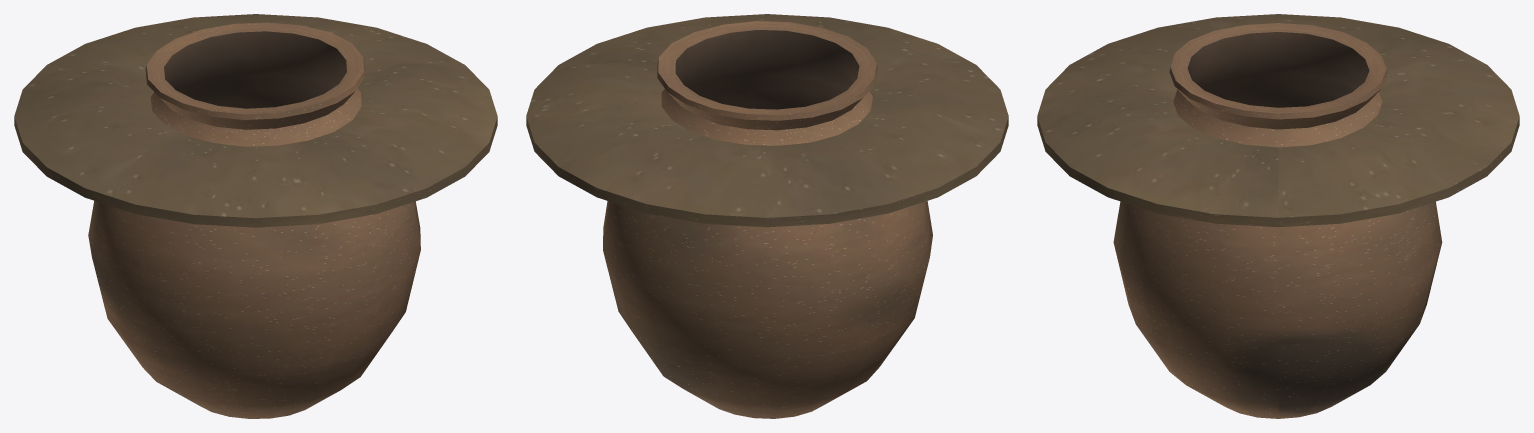
Rendered from store_jar_sunken.glb.
The picture shows the model from 3 angles, left to right: view 1: azimuth 30°, elevation 25°; view 2: azimuth 150°, elevation 25°; view 3: azimuth 270°, elevation 25°; orthographic projection.
Parts seen in each view (by area): view 1: STORE_JAR_SUNKEN; view 2: STORE_JAR_SUNKEN; view 3: STORE_JAR_SUNKEN.
Part boxes in pixels (<box>): STORE_JAR_SUNKEN: <box>14,14,497,418</box>; STORE_JAR_SUNKEN: <box>526,14,1008,418</box>; STORE_JAR_SUNKEN: <box>1037,14,1519,418</box>.
Bounding box in the file's own units: 0.84 × 0.623 × 0.84.
2 materials, 2 textured.
